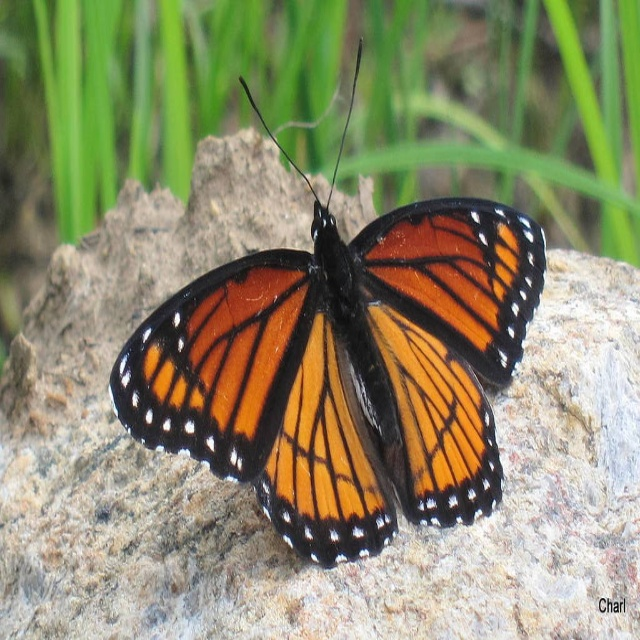Butterfly: (106, 34, 556, 565)
